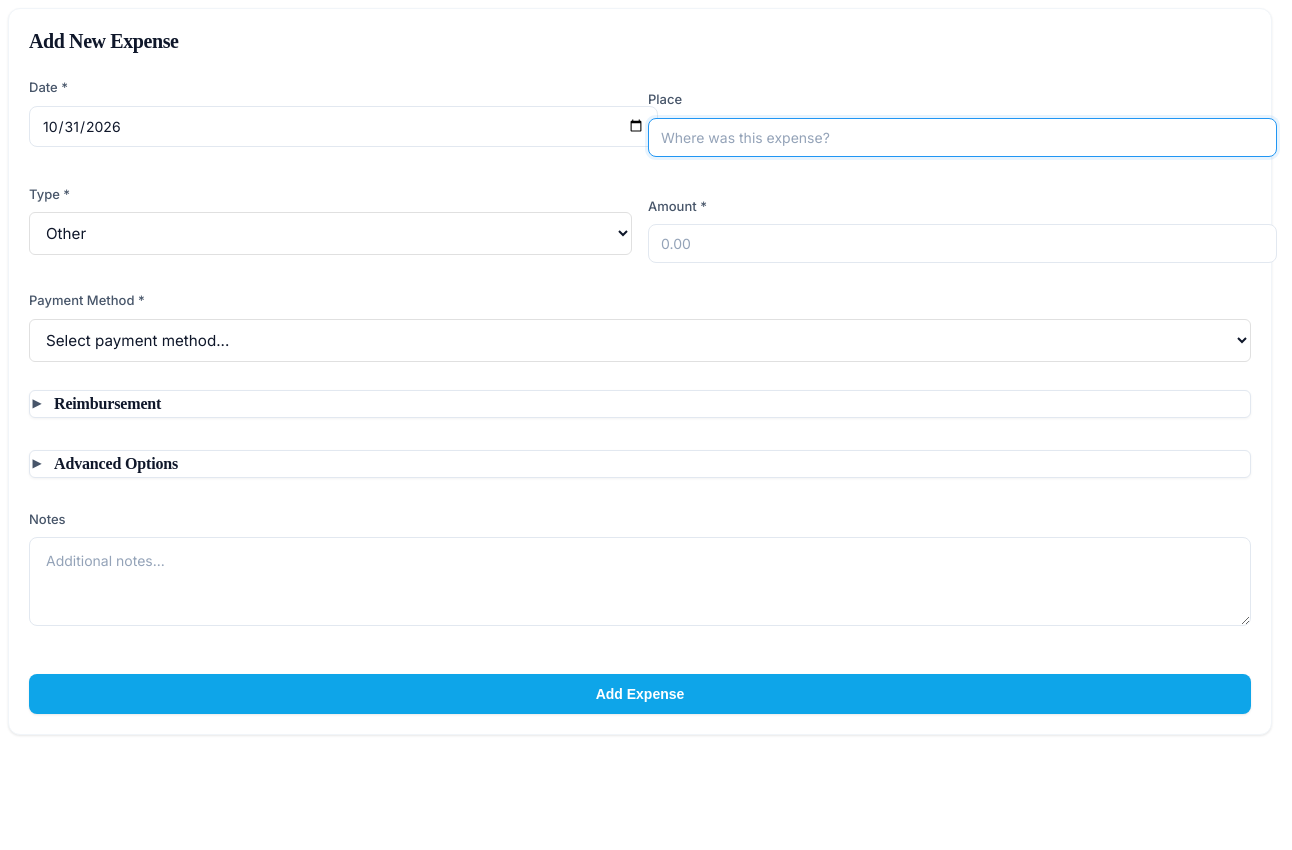
Scenario: ExpenseForm - Invoice Integration › should show invoice section for medical expenses
This screenshot has width=1292, height=850.
Change to medical expense type
Select "Tax - Medical" in the dropdown showing "Other": (330, 234) [29,212,632,255]
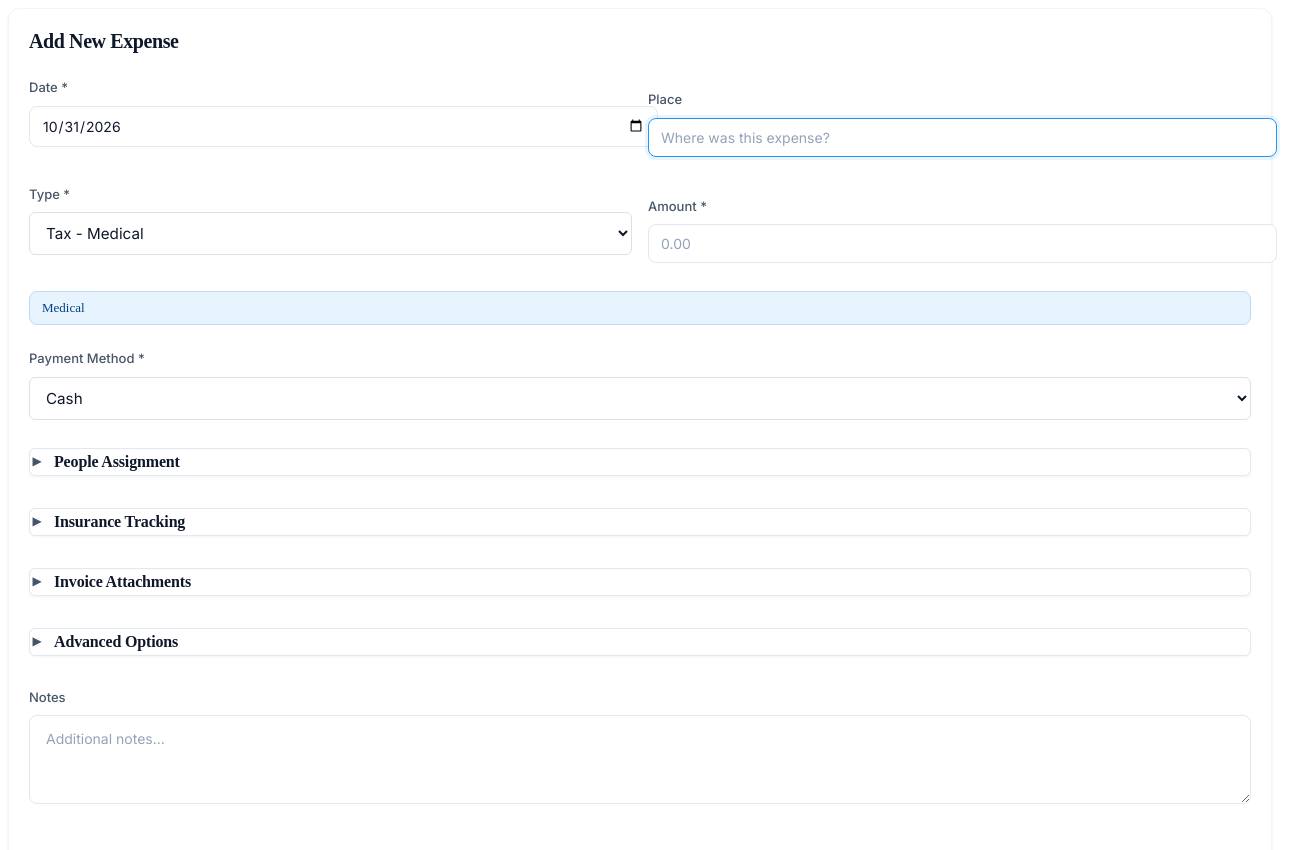
Now the text "Invoice Attachments" is shown, box [54,572,191,590]
Expand the section to see the content
Click the button "▶ Invoice Attachments": (112, 581) [32,572,191,590]
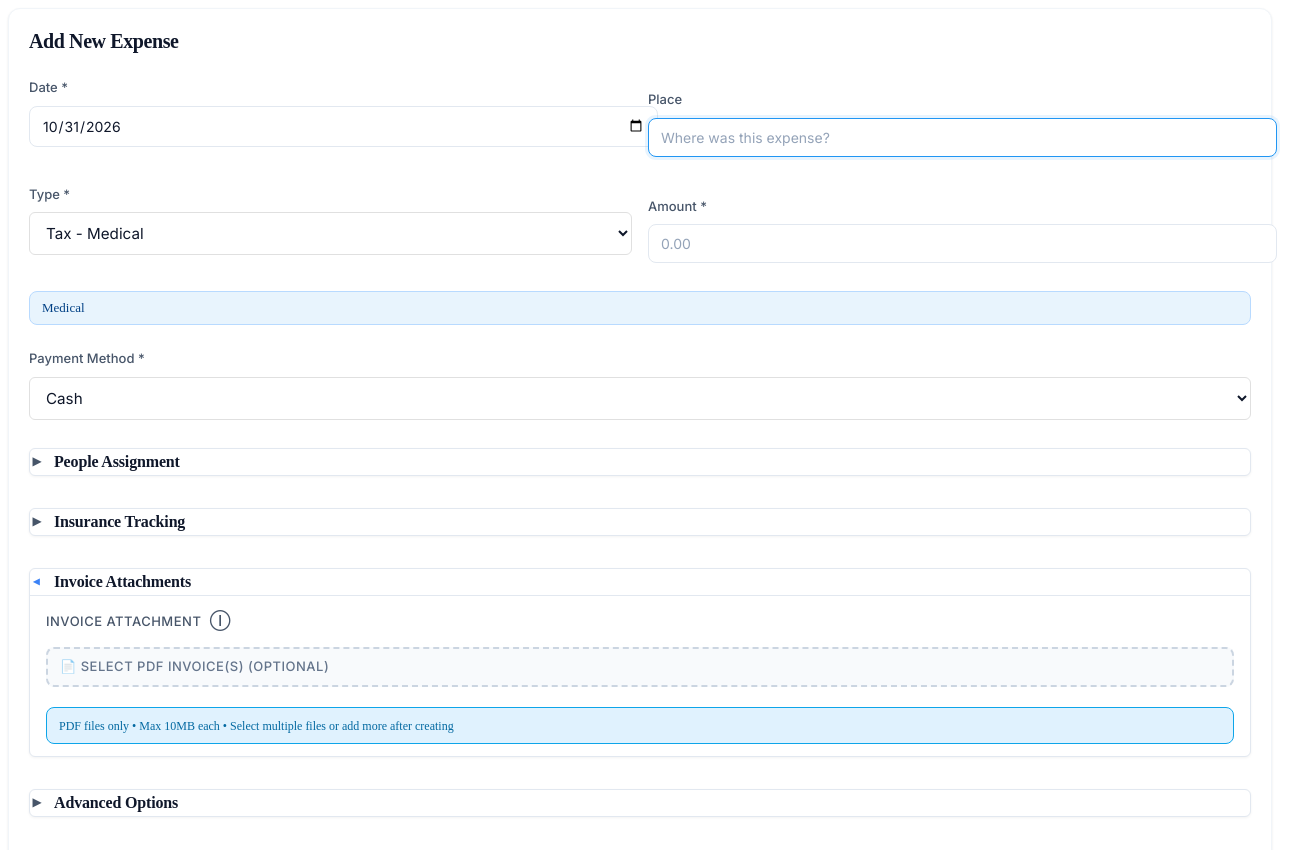
Now the text "📄 Select PDF invoice(s) (optional)" is shown, box [60,657,329,676]
